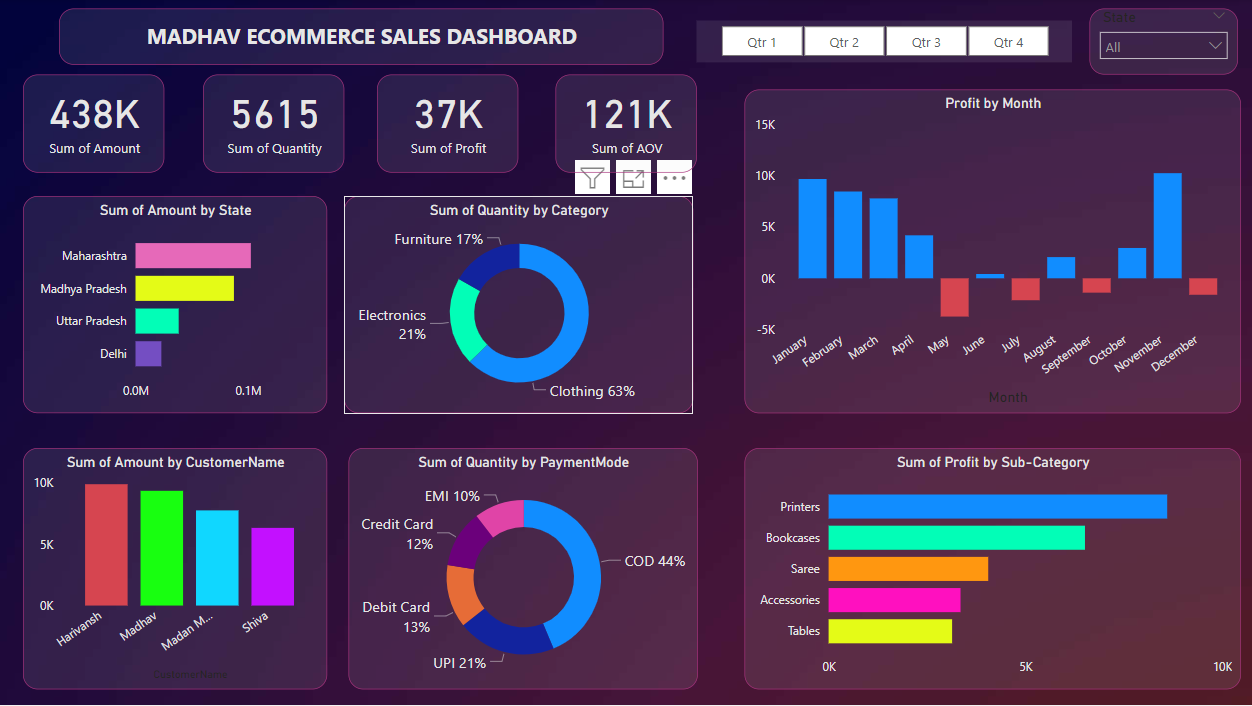

The page's visual inventory and layout, read from the dashboard file:
{"tool":"powerbi","page":{"name":"Page 1","canvas":[1280,720],"ordinal":0},"visuals":[{"type":"columnChart","title":"Profit by Month","fields":{"Category":["Orders.Order Date.Variation.Date Hierarchy.Month"],"Y":["Sum(Details.Profit)"]},"box":[760,92.9,505.7,330],"z":1},{"type":"barChart","fields":{"Category":["Details.Sub-Category"],"Y":["Sum(Details.Profit)"]},"box":[760,458.6,505.7,245.7],"z":2},{"type":"donutChart","fields":{"Y":["Sum(Details.Quantity)"],"Category":["Details.PaymentMode"]},"box":[355.7,458.6,355.7,245.7],"z":3},{"type":"donutChart","fields":{"Category":["Details.Category"],"Y":["Sum(Details.Quantity)"]},"box":[351.4,201.4,355.7,221.4],"z":4},{"type":"card","fields":{"Values":["Sum(Details.Amount)"]},"box":[24.3,78.6,144.3,100],"z":5},{"type":"card","fields":{"Values":["Sum(Details.Quantity)"]},"box":[207.1,78.6,144.3,100],"z":6},{"type":"card","fields":{"Values":["Sum(Details.Profit)"]},"box":[385.7,78.6,144.3,100],"z":7},{"type":"card","fields":{"Values":["Sum(Details.AOV)"]},"box":[567.1,78.6,144.3,100],"z":8},{"type":"barChart","fields":{"Y":["Sum(Details.Amount)"],"Category":["Orders.State"]},"box":[24.3,201.4,310,221.4],"z":9},{"type":"columnChart","fields":{"Category":["Orders.CustomerName"],"Y":["Sum(Details.Amount)"]},"box":[24.3,458.6,310,245.7],"z":10},{"type":"textbox","box":[61.4,11.4,615.7,57.1],"z":11},{"type":"slicer","fields":{"Values":["Orders.Order Date.Variation.Date Hierarchy.Quarter"]},"box":[711.4,22.9,382.9,42.9],"z":12},{"type":"slicer","fields":{"Values":["Orders.State"]},"box":[1111.4,11.4,151.4,67.1],"z":13}]}

Visuals, with their boxes in screenshot pixels (x1, y1, x2, y2), scaled from the page's 1280x720 canvas onto the 1252x706 screenshot:
"Profit by Month" columnChart: l=743, t=91, r=1238, b=415
barChart - Details.Sub-Category x Sum(Details.Profit): l=743, t=450, r=1238, b=691
donutChart - Sum(Details.Quantity) x Details.PaymentMode: l=348, t=450, r=696, b=691
donutChart - Details.Category x Sum(Details.Quantity): l=344, t=197, r=692, b=415
card - Sum(Details.Amount): l=24, t=77, r=165, b=175
card - Sum(Details.Quantity): l=203, t=77, r=344, b=175
card - Sum(Details.Profit): l=377, t=77, r=518, b=175
card - Sum(Details.AOV): l=555, t=77, r=696, b=175
barChart - Sum(Details.Amount) x Orders.State: l=24, t=197, r=327, b=415
columnChart - Orders.CustomerName x Sum(Details.Amount): l=24, t=450, r=327, b=691
textbox: l=60, t=11, r=662, b=67
slicer - Orders.Order Date.Variation.Date Hierarchy.Quarter: l=696, t=22, r=1070, b=65
slicer - Orders.State: l=1087, t=11, r=1235, b=77
